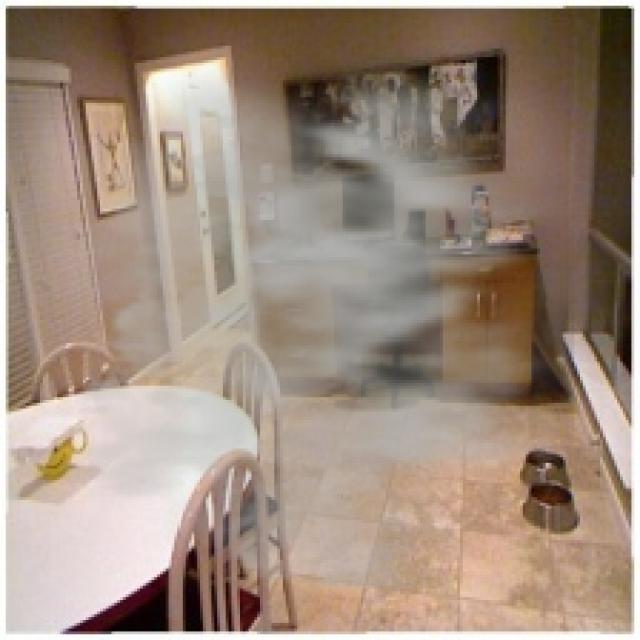Smoke: (12, 34, 574, 589)
